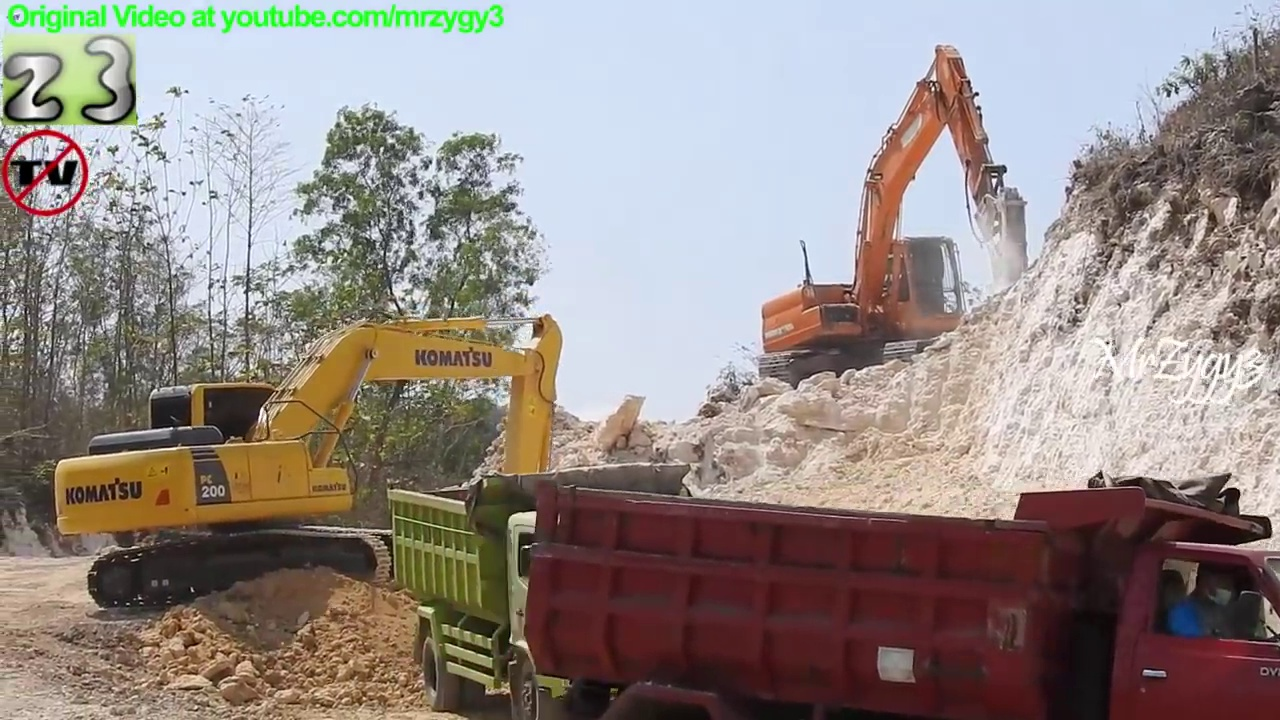excavator: (47, 298, 579, 624), (750, 34, 1041, 396)
truck: (515, 455, 1280, 720), (379, 457, 735, 720)
